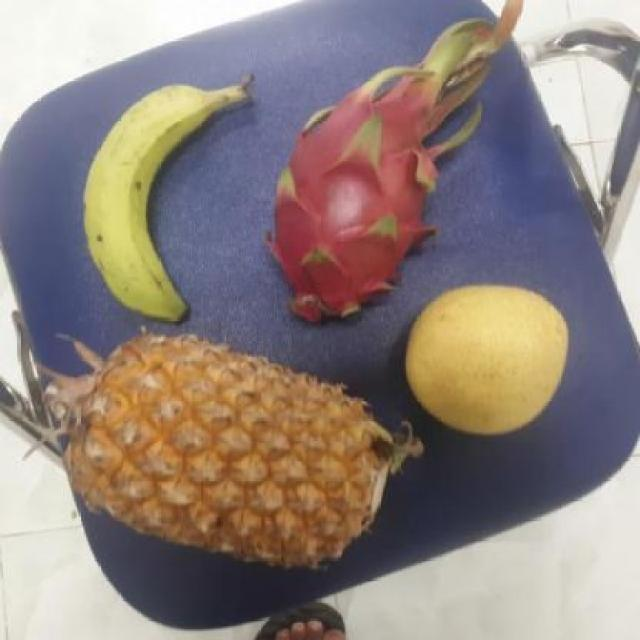banana: (78, 85, 235, 319)
dragon fruit: (255, 91, 466, 322)
pear: (398, 287, 569, 435)
pineapple: (59, 333, 385, 570)
